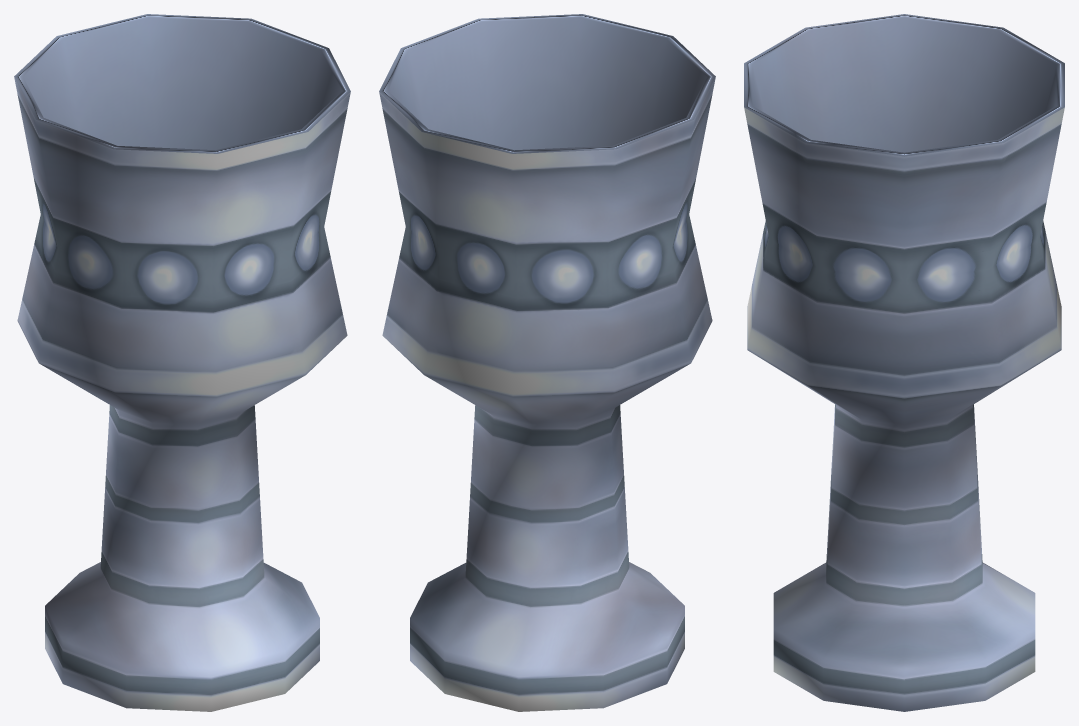
Rendered from cup_05.fbx.
The picture shows the model from 3 angles, left to right: view 1: azimuth 30°, elevation 25°; view 2: azimuth 150°, elevation 25°; view 3: azimuth 270°, elevation 25°; orthographic projection.
Parts seen in each view (by area): view 1: cup_05; view 2: cup_05; view 3: cup_05.
Boxes of the visible parts, bbox=[...] form: cup_05: bbox=[14, 14, 350, 711]; cup_05: bbox=[379, 14, 715, 711]; cup_05: bbox=[744, 14, 1064, 711].
Size of the model in its own units: 10.07 by 18.74 by 9.58.
